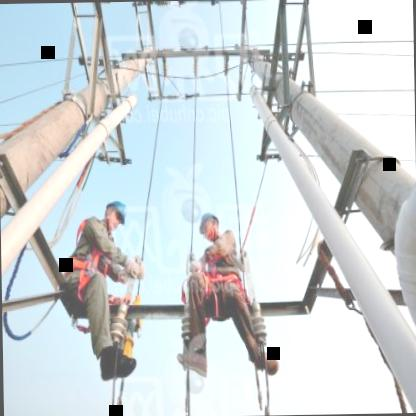helmet: (102, 190, 128, 233), (198, 209, 220, 243)
